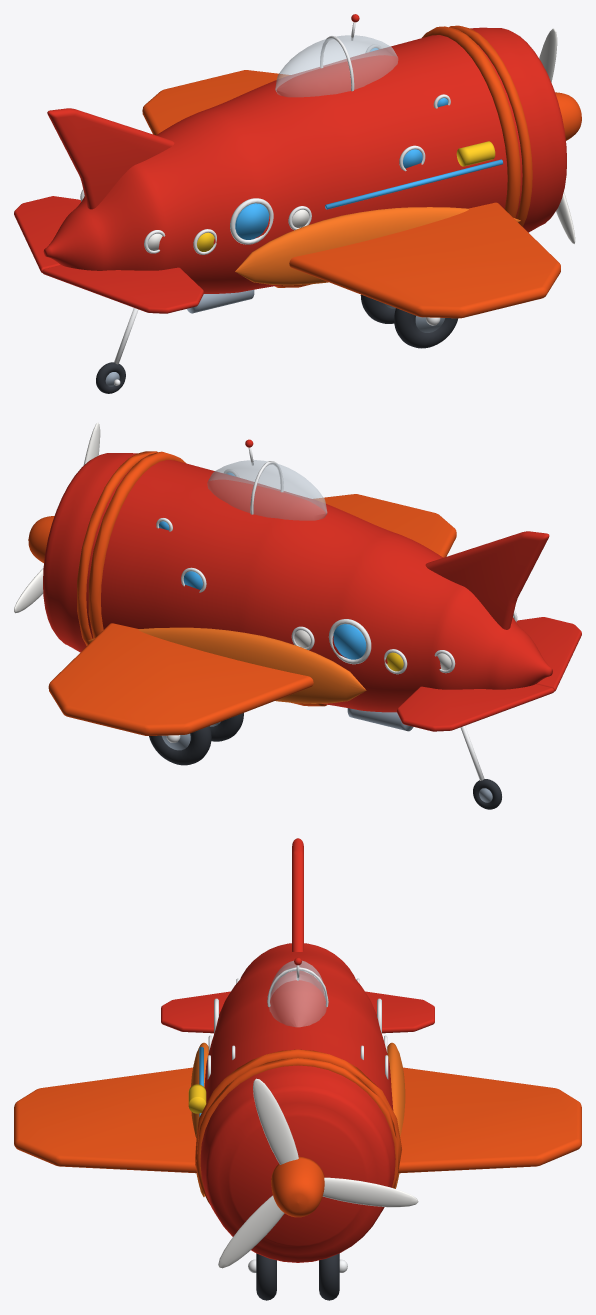
Rendered from tsunami.glb.
3 renders of one model, top to bottom at view 1: azimuth 30°, elevation 25°; view 2: azimuth 150°, elevation 25°; view 3: azimuth 270°, elevation 25°, orthographic. The views are drawn at different scales.
Visible parts, largest first — view 1: body 0, wing.002, body 1, fairing, fin, canopy, wing, wing.003, Torus, wing.001, Torus.001, Torus.015 (+10 smaller); view 2: body 0, wing.003, body 1, fairing.001, fin, canopy, wing.001, wing.002, Torus, wing, Torus.001, Torus.016 (+7 smaller); view 3: body 1, body 0, wing.003, wing.002, canopy, spinner, Torus.001, Torus, blade, blade.002, wing.001, wing (+5 smaller).
Part boxes in pixels (box(x1,y1,x2,y2)): body 0: box(43, 35, 507, 293); wing.002: box(289, 202, 560, 318); body 1: box(470, 27, 566, 232); fairing: box(235, 207, 520, 285); fin: box(47, 108, 174, 209); canopy: box(275, 35, 397, 96); wing: box(42, 265, 203, 313); wing.003: box(142, 70, 289, 135); Torus: box(422, 26, 520, 218); wing.001: box(14, 196, 80, 272); Torus.001: box(449, 25, 532, 226); Torus.015: box(394, 308, 458, 348); body 0: box(101, 460, 552, 712); wing.003: box(48, 623, 313, 735); body 1: box(43, 453, 137, 652); fairing.001: box(88, 627, 366, 703); fin: box(425, 531, 549, 629); canopy: box(207, 460, 327, 520); wing.001: box(397, 684, 554, 731); wing.002: box(314, 494, 456, 557); Torus: box(88, 451, 186, 638); wing: box(516, 617, 581, 691); Torus.001: box(77, 451, 157, 645); Torus.016: box(149, 726, 211, 765); body 1: box(200, 1065, 395, 1262); body 0: box(204, 943, 393, 1110); wing.003: box(398, 1067, 581, 1173); wing.002: box(14, 1067, 196, 1173); canopy: box(269, 961, 326, 1026); spinner: box(271, 1156, 324, 1217); Torus.001: box(196, 1058, 400, 1205); Torus: box(195, 1049, 401, 1180); blade: box(253, 1078, 298, 1164); blade.002: box(322, 1177, 418, 1207); wing.001: box(365, 991, 434, 1033); wing: box(161, 991, 230, 1033).
Bounding box in the file's own units: 5.94 × 3.54 × 5.8.
